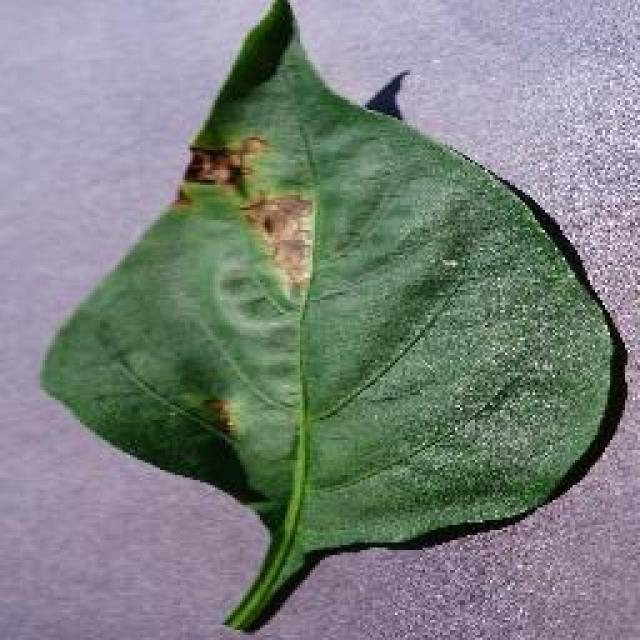Chilli_Bacterial_Spot: (35, 0, 630, 632), (170, 130, 320, 300), (238, 190, 318, 295), (210, 258, 298, 340), (178, 132, 268, 192), (195, 392, 240, 442), (235, 130, 270, 162)
